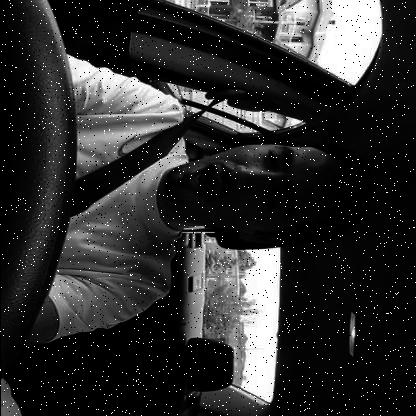seatbelt: (75, 86, 371, 259)
